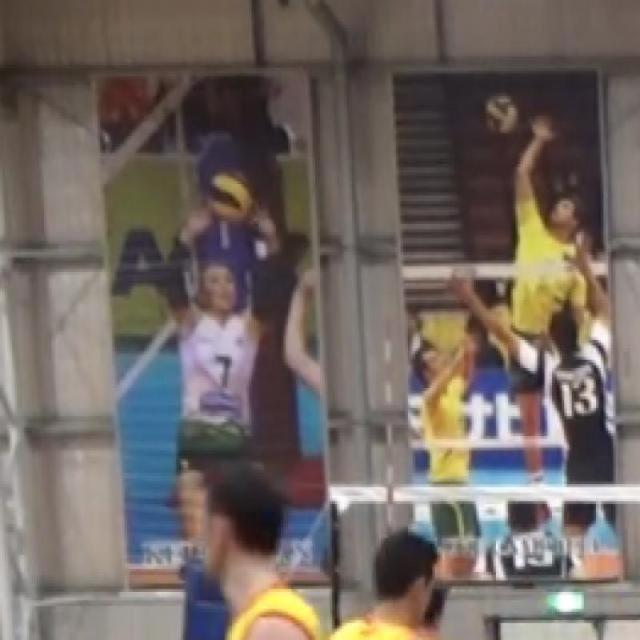volleyball: (200, 162, 256, 226), (476, 88, 526, 139)
